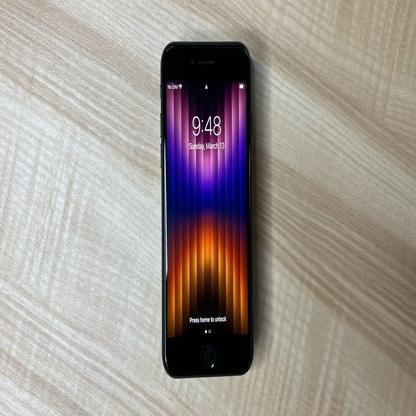not trash: (154, 37, 276, 386)
